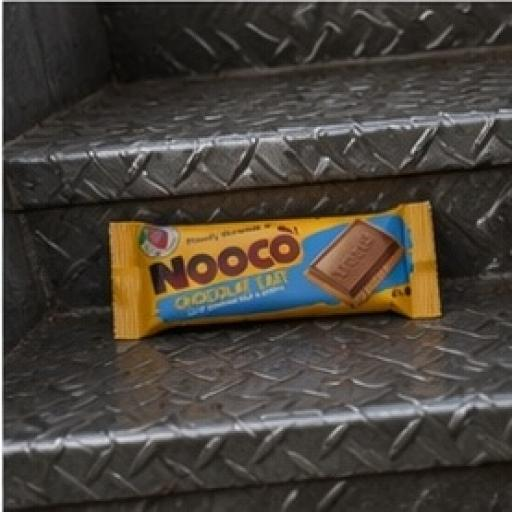nooco: (73, 176, 477, 358)
